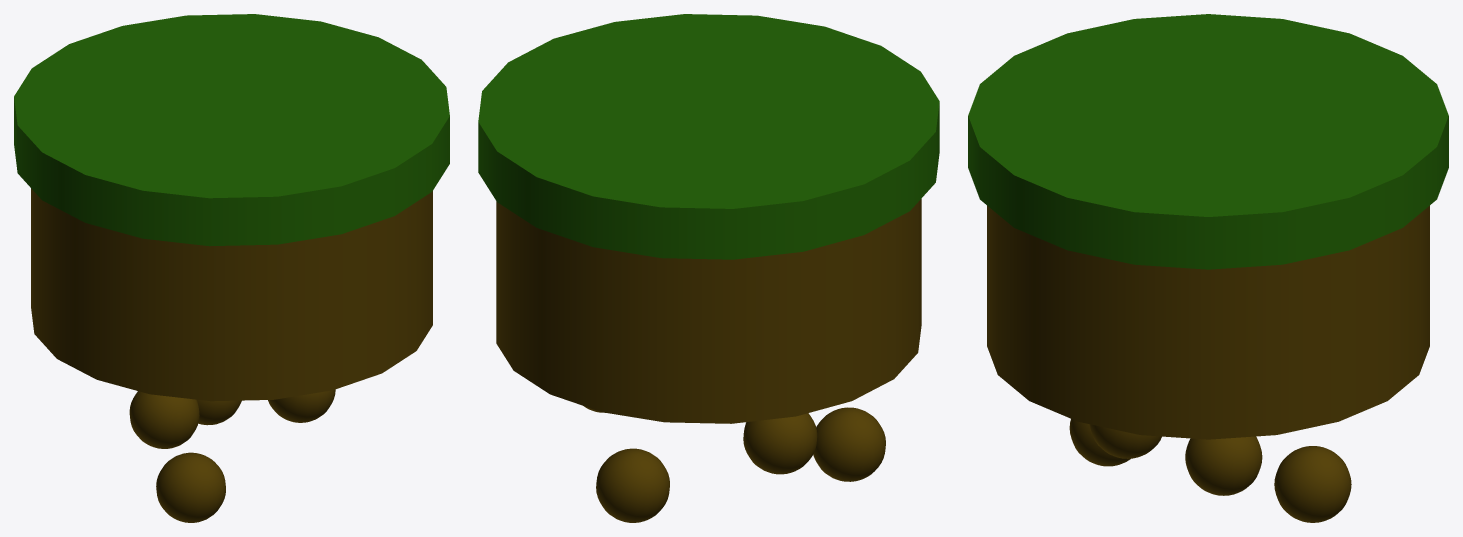
File: grassplatformcircle.fbx
3 renders of one model, left to right at view 1: azimuth 30°, elevation 25°; view 2: azimuth 150°, elevation 25°; view 3: azimuth 270°, elevation 25°, orthographic. The views are drawn at different scales.
Parts seen in each view (by area): view 1: group1_pasted__pSphere1; view 2: group1_pasted__pSphere1; view 3: group1_pasted__pSphere1.
Boxes of the visible parts, <box> form: group1_pasted__pSphere1: <box>14,14,449,522</box>; group1_pasted__pSphere1: <box>478,14,939,522</box>; group1_pasted__pSphere1: <box>968,14,1448,522</box>.
Size of the model in its own units: 7.66 by 6.92 by 7.66.
